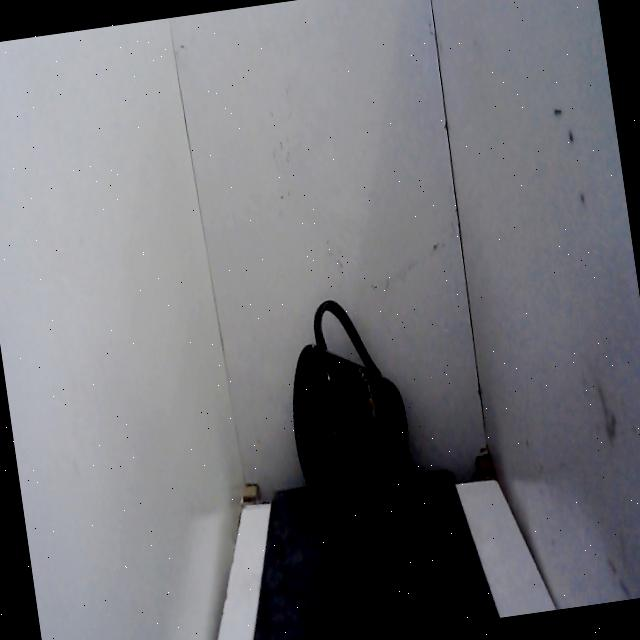vidro: (270, 281, 424, 523)
